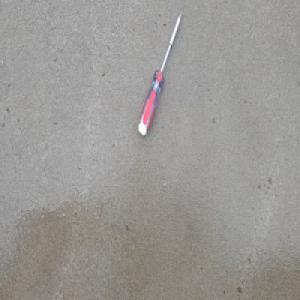Screwdriver: (137, 8, 183, 137)
